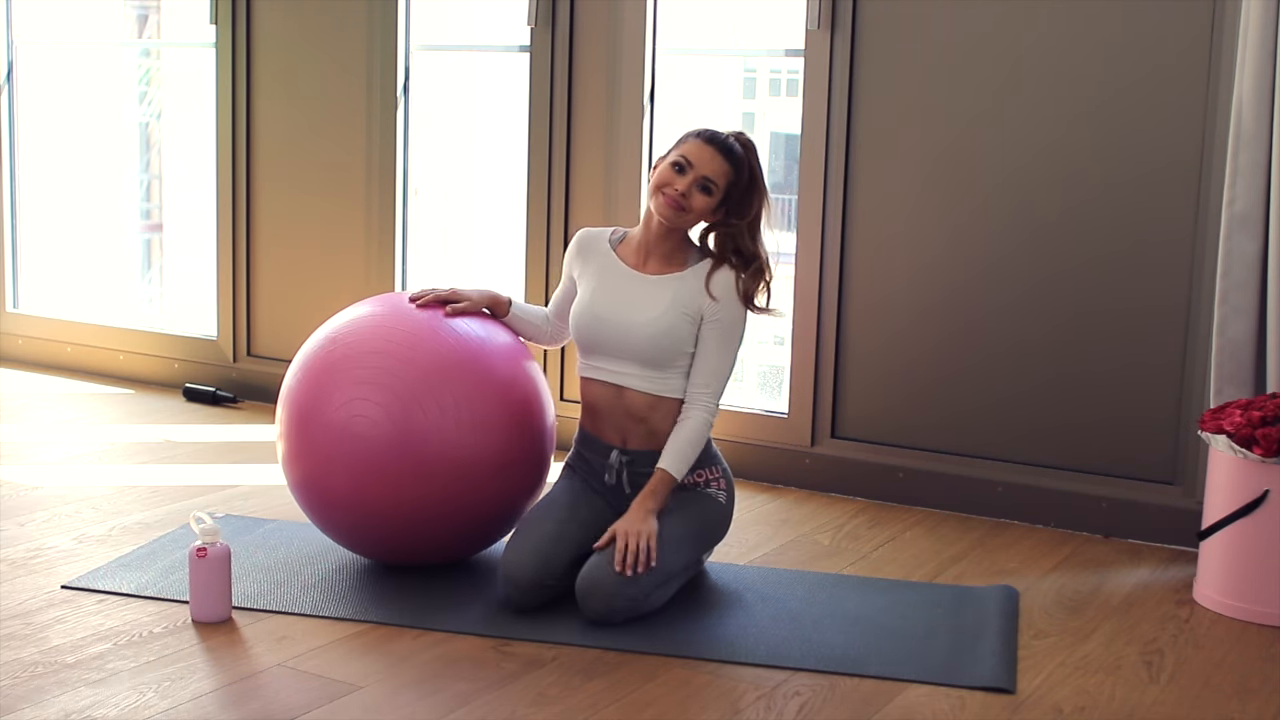yogaball: (271, 289, 561, 576)
